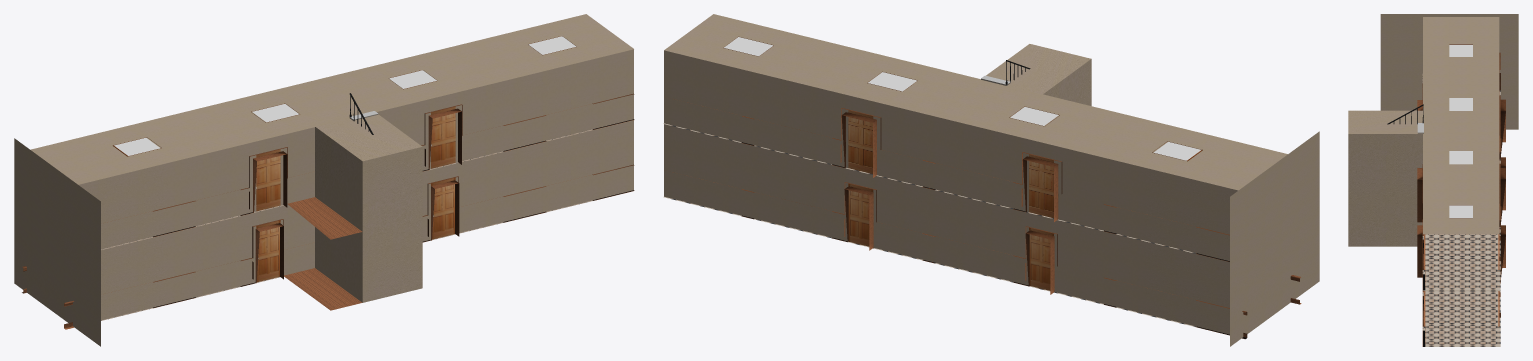
The model's file is Hallway6.fbx.
The picture shows the model from 3 angles, left to right: view 1: azimuth 30°, elevation 25°; view 2: azimuth 150°, elevation 25°; view 3: azimuth 270°, elevation 25°; orthographic projection. The views are drawn at different scales.
Parts seen in each view (by area): view 1: Walls.002, Walls, Ceiling.001, Walls.001, Walls.003, Door Frame.001, Door Frame.003, Doors.001, Doors, Lights.001; view 2: Walls, Walls.002, Ceiling.001, Walls.003, Walls.001, Doors, Lights.001, Door Frame, Door Frame.002, Doors.001, OpenDoor, Floor.001 (+1 smaller); view 3: Ceiling.001, Walls.001, Walls.003, Floor.001, Floor, Lights.001, Door Frame.002, Door Frame.003, Door Frame.001, Door Frame, 1:39:6.002.
Boxes of the visible parts, bbox=[...] form: Walls.002: bbox=[79, 49, 633, 249]; Walls: bbox=[101, 120, 633, 320]; Ceiling.001: bbox=[30, 14, 633, 184]; Walls.001: bbox=[315, 114, 422, 302]; Walls.003: bbox=[14, 138, 100, 346]; Door Frame.001: bbox=[64, 164, 634, 329]; Door Frame.003: bbox=[107, 93, 634, 239]; Doors.001: bbox=[256, 106, 455, 211]; Doors: bbox=[256, 177, 455, 282]; Lights.001: bbox=[114, 36, 576, 155]; Walls: bbox=[664, 124, 1229, 334]; Walls.002: bbox=[664, 50, 1238, 261]; Ceiling.001: bbox=[664, 14, 1287, 190]; Walls.003: bbox=[1230, 131, 1319, 346]; Walls.001: bbox=[986, 44, 1091, 105]; Doors: bbox=[848, 183, 1053, 290]; Lights.001: bbox=[724, 37, 1200, 160]; Door Frame: bbox=[672, 172, 1247, 339]; Door Frame.002: bbox=[673, 99, 1229, 261]; Doors.001: bbox=[1029, 154, 1053, 218]; OpenDoor: bbox=[848, 110, 873, 173]; Floor.001: bbox=[663, 123, 1195, 253]; Ceiling.001: bbox=[1423, 17, 1499, 234]; Walls.001: bbox=[1348, 110, 1423, 246]; Walls.003: bbox=[1380, 14, 1518, 129]; Floor.001: bbox=[1422, 74, 1500, 290]; Floor: bbox=[1422, 290, 1500, 346]; Lights.001: bbox=[1449, 44, 1472, 218]; Door Frame.002: bbox=[1498, 52, 1505, 269]; Door Frame.003: bbox=[1417, 83, 1425, 290]; Door Frame.001: bbox=[1417, 225, 1425, 346]; Door Frame: bbox=[1498, 157, 1505, 326]; 1:39:6.002: bbox=[1387, 104, 1423, 124].
Size of the model in its own units: 154 by 43.08 by 50.24.
